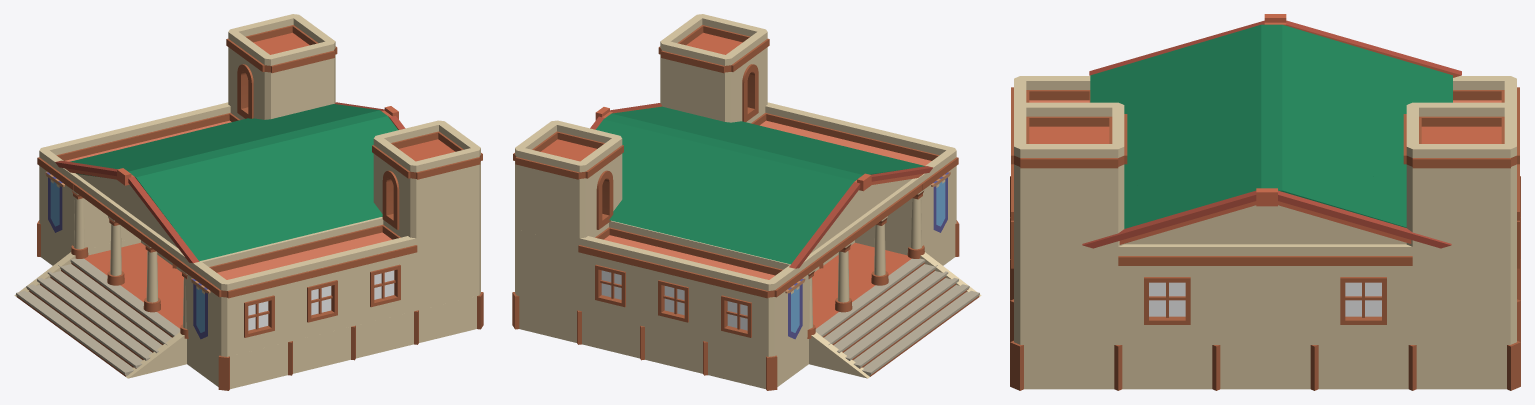
Rendered from musee.glb.
3 views of the same model, side by side, from view 1: azimuth 30°, elevation 25°; view 2: azimuth 150°, elevation 25°; view 3: azimuth 270°, elevation 25° (orthographic). The views are drawn at different scales.
Visible parts, largest first — view 1: mergedBlocks(Clone); view 2: mergedBlocks(Clone); view 3: mergedBlocks(Clone).
Boxes of the visible parts, x1,y1,x2,y2 form: mergedBlocks(Clone): [14, 14, 483, 390]; mergedBlocks(Clone): [512, 14, 981, 390]; mergedBlocks(Clone): [1010, 14, 1520, 390].
Size of the model in its own units: 5.16 by 2.7 by 5.21.
Materials: 1 (1 with a texture image).
